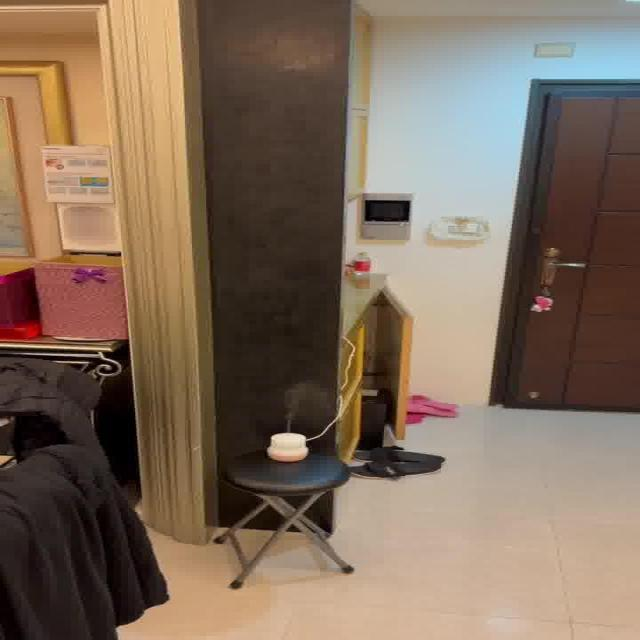fire: (278, 382, 323, 426)
